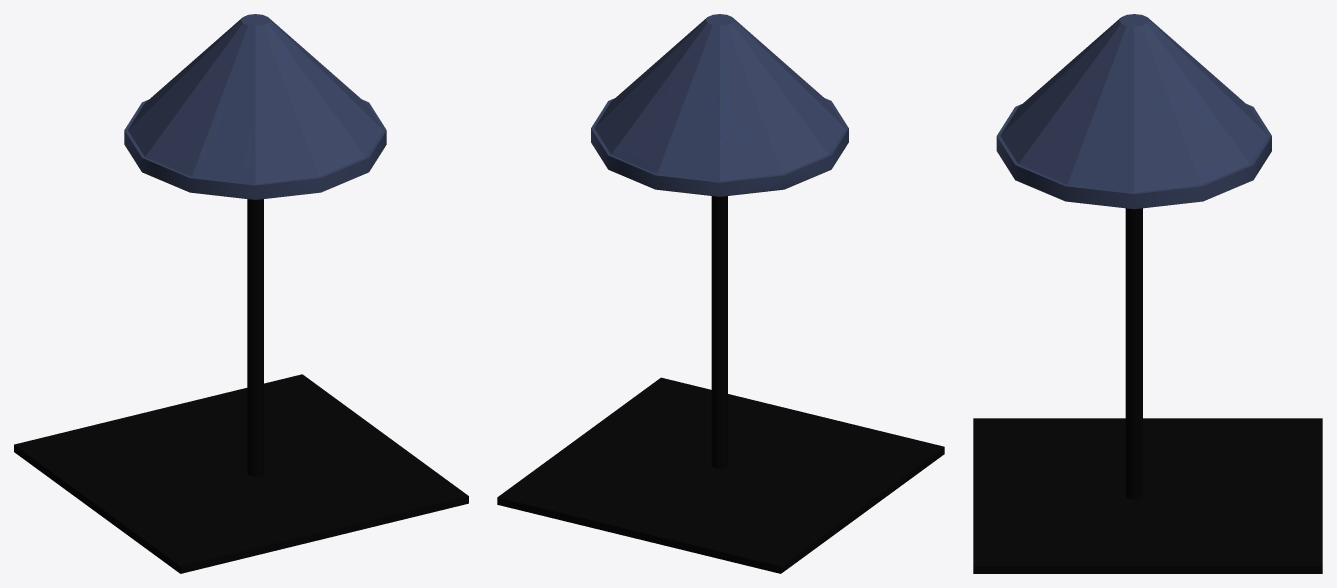
The model's file is Lamp.fbx.
The picture shows the model from 3 angles, left to right: view 1: azimuth 30°, elevation 25°; view 2: azimuth 150°, elevation 25°; view 3: azimuth 270°, elevation 25°; orthographic projection. The views are drawn at different scales.
Visible parts, largest first — view 1: Cylinder002; view 2: Cylinder002; view 3: Cylinder002.
Boxes of the visible parts, x1,y1,x2,y2 form: Cylinder002: (14,14,468,573); Cylinder002: (497,14,944,573); Cylinder002: (973,14,1322,573).
Bounding box in the file's own units: 20 × 20 × 30.53.
1 material, 1 textured.
